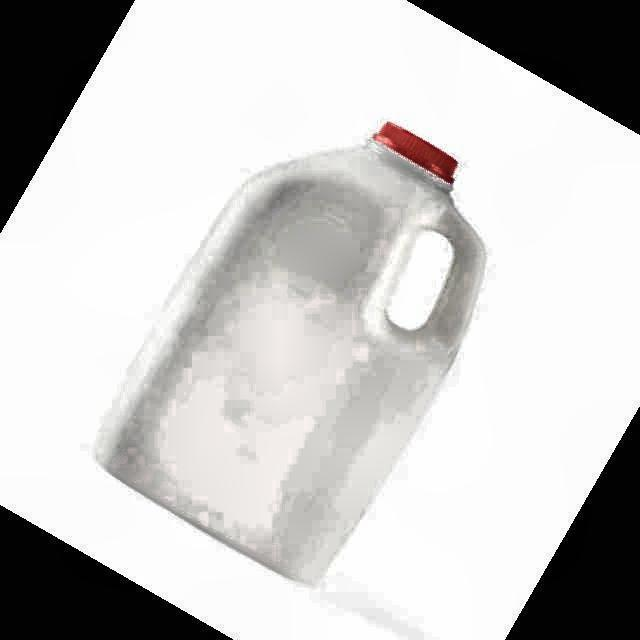plastic: (99, 122, 484, 581)
